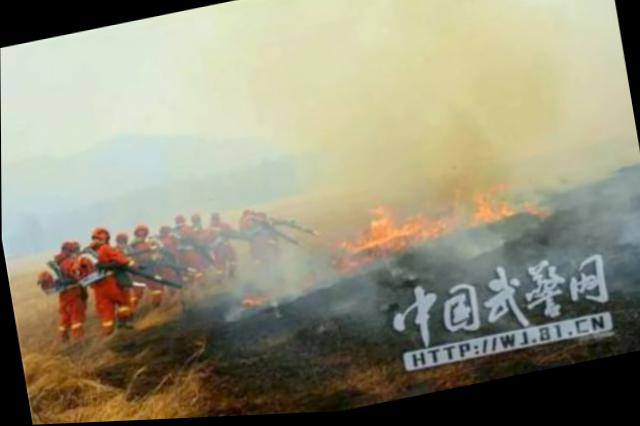fire: (330, 171, 544, 274)
